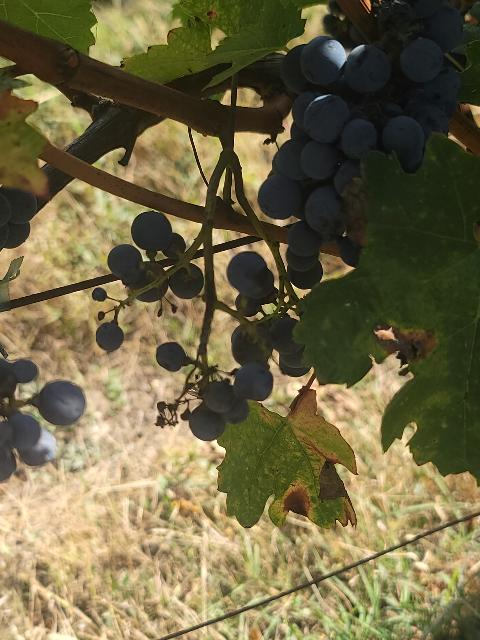grapes: (258, 0, 479, 266), (156, 252, 309, 440), (108, 211, 218, 359), (0, 359, 86, 481)
